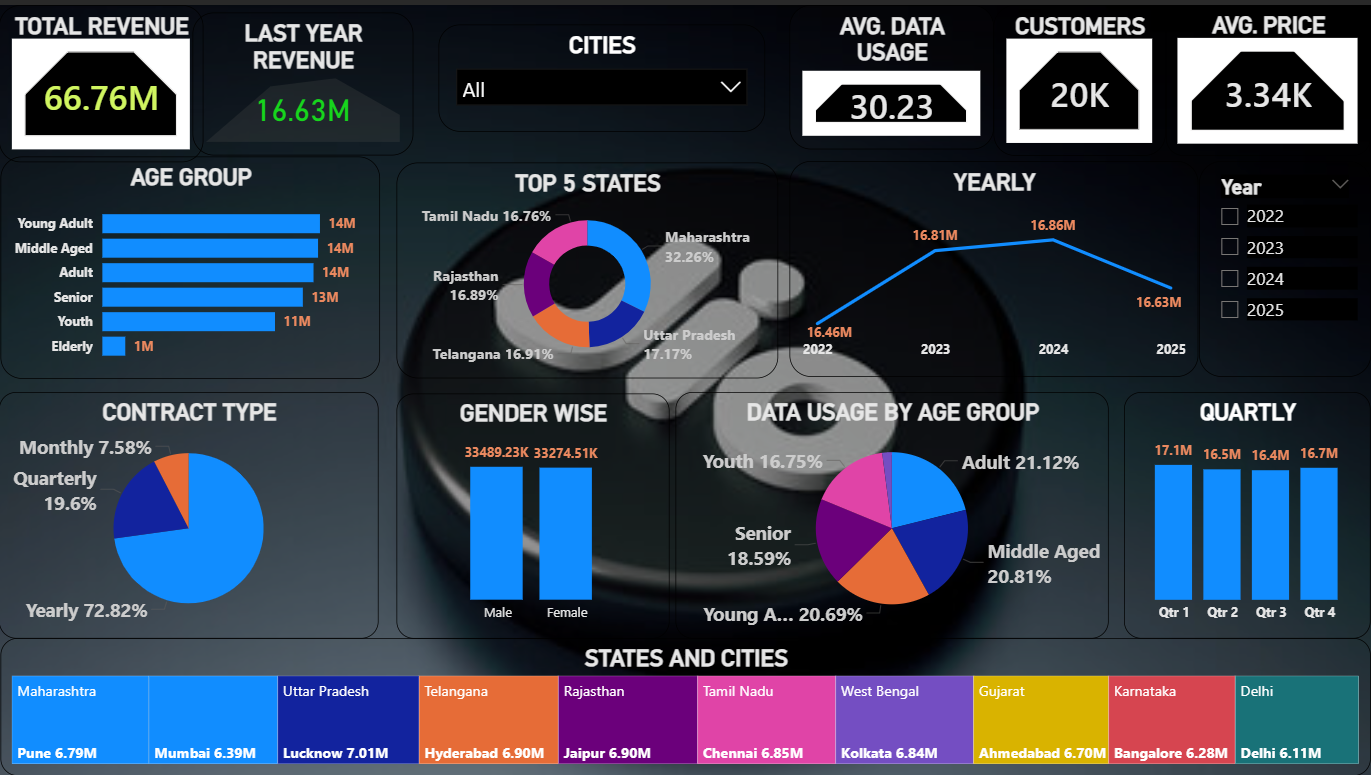

Layout of this report page (visuals, bound fields, positions):
{"tool":"powerbi","page":{"name":"Page 1","canvas":[1280,720],"ordinal":0},"visuals":[{"type":"cardVisual","title":"CUSTOMERS","fields":{"Data":["Sheet1.total customers"]},"box":[928.2,0,160.5,140.8],"z":0},{"type":"kpi","title":"LAST YEAR REVENUE","fields":{"Indicator":["Sum(Sheet1.Total_Price)"],"TrendLine":["Sheet1.Year"]},"box":[180.2,7.6,205.9,133.3],"z":1000},{"type":"cardVisual","title":"TOTAL REVENUE","fields":{"Data":["Sheet1.TOTAL REVENUE"]},"box":[0,0,190.8,146.9],"z":2000},{"type":"cardVisual","title":"AVG. PRICE","fields":{"Data":["Sheet1.AVG PRICE"]},"box":[1088.7,0,190.8,140.8],"z":3000},{"type":"cardVisual","title":"AVG. DATA USAGE","fields":{"Data":["Sheet1.AVG. DATA USAGE"]},"box":[737.4,0,190.8,134.8],"z":4000},{"type":"barChart","title":"AGE GROUP","fields":{"Category":["Sheet1.Age Group"],"Y":["Sum(Sheet1.Total_Price)"]},"box":[1.5,140.8,354.3,207.4],"z":5000},{"type":"pieChart","title":"CONTRACT TYPE","fields":{"Category":["Sheet1.Contract_Type"],"Y":["Sum(Sheet1.Total_Price)"]},"box":[0,360.4,354.3,230.2],"z":6000},{"type":"columnChart","title":"GENDER WISE","fields":{"Category":["Sheet1.Gender"],"Y":["Sum(Sheet1.Total_Price)"]},"box":[371,361.9,254.4,228.6],"z":7000},{"type":"donutChart","title":"TOP 5 STATES","fields":{"Category":["Sheet1.State"],"Y":["Sum(Sheet1.Total_Price)"]},"box":[371,146.9,355.8,201.4],"z":8000},{"type":"lineChart","title":"YEARLY","fields":{"Category":["Sheet1.Year"],"Y":["Sum(Sheet1.Total_Price)"]},"box":[737.4,145.4,381.6,201.4],"z":9000},{"type":"pieChart","title":"DATA USAGE BY AGE GROUP","fields":{"Category":["Sheet1.Age Group"],"Y":["Sum(Sheet1.Data_Usage_GB)"]},"box":[631.4,360.4,404.3,230.2],"z":10000},{"type":"treemap","title":"STATES AND CITIES","fields":{"Group":["Sheet1.State"],"Details":["Sheet1.City"],"Values":["Sum(Sheet1.Total_Price)"]},"box":[1.5,590.5,1278,128.7],"z":11000},{"type":"columnChart","title":"QUARTLY","fields":{"Category":["Sheet1.Join_Date.Variation.Date Hierarchy.Quarter"],"Y":["Sum(Sheet1.Total_Price)"]},"box":[1049.3,360.4,230.2,230.2],"z":12000},{"type":"slicer","title":"CITIES","fields":{"Values":["Sheet1.City"]},"box":[410.3,18.2,304.4,99.9],"z":13000},{"type":"slicer","fields":{"Values":["Sheet1.Year"]},"box":[1119,145.4,160.5,201.4],"z":14000}]}

Visuals, with their boxes in screenshot pixels (x1, y1, x2, y2), scaled from the page's 1280x720 canvas onto the 1371x775 screenshot:
"CUSTOMERS" cardVisual: (x1=994, y1=0, x2=1166, y2=152)
"LAST YEAR REVENUE" kpi: (x1=193, y1=8, x2=414, y2=152)
"TOTAL REVENUE" cardVisual: (x1=0, y1=0, x2=204, y2=158)
"AVG. PRICE" cardVisual: (x1=1166, y1=0, x2=1370, y2=152)
"AVG. DATA USAGE" cardVisual: (x1=790, y1=0, x2=994, y2=145)
"AGE GROUP" barChart: (x1=2, y1=152, x2=381, y2=375)
"CONTRACT TYPE" pieChart: (x1=0, y1=388, x2=379, y2=636)
"GENDER WISE" columnChart: (x1=397, y1=390, x2=670, y2=636)
"TOP 5 STATES" donutChart: (x1=397, y1=158, x2=778, y2=375)
"YEARLY" lineChart: (x1=790, y1=157, x2=1199, y2=373)
"DATA USAGE BY AGE GROUP" pieChart: (x1=676, y1=388, x2=1109, y2=636)
"STATES AND CITIES" treemap: (x1=2, y1=636, x2=1370, y2=774)
"QUARTLY" columnChart: (x1=1124, y1=388, x2=1370, y2=636)
"CITIES" slicer: (x1=439, y1=20, x2=766, y2=127)
slicer - Sheet1.Year: (x1=1199, y1=157, x2=1370, y2=373)
